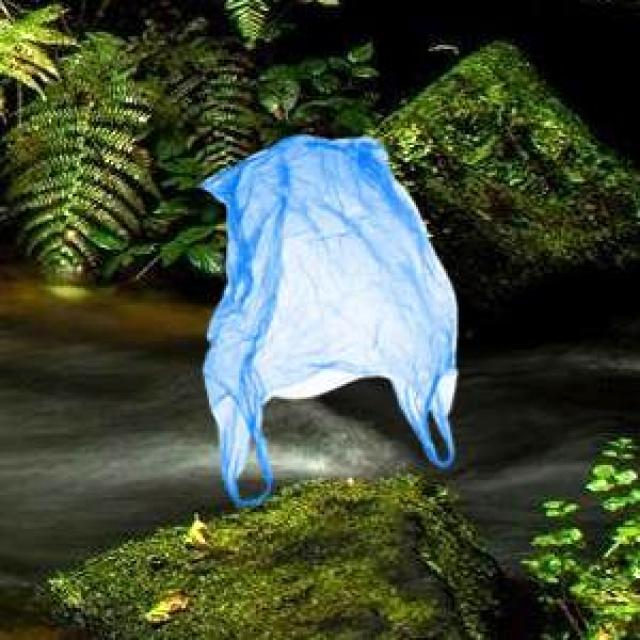Plastic_Bag: (197, 133, 453, 500)
